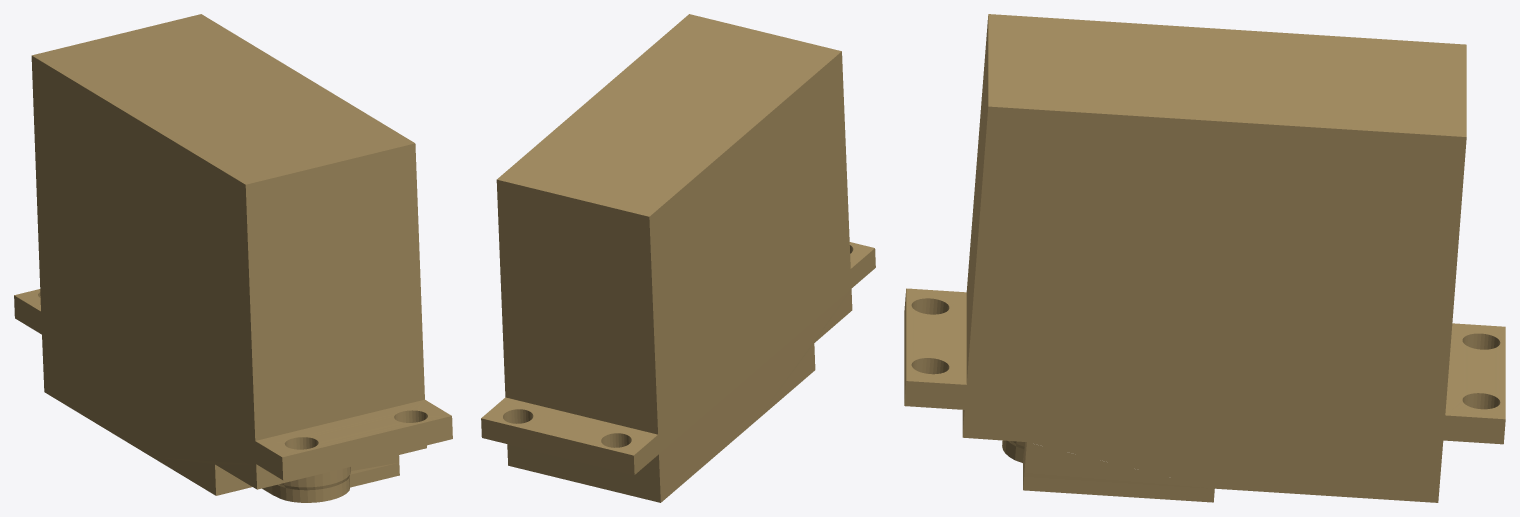
The model's file is right_shoulder_y_link_visual_1.obj.full.glb.
The picture shows the model from 3 angles, left to right: view 1: azimuth 30°, elevation 25°; view 2: azimuth 150°, elevation 25°; view 3: azimuth 270°, elevation 25°; orthographic projection. The views are drawn at different scales.
Bounding box in the file's own units: 0.2829 × 0.5644 × 0.7761.
